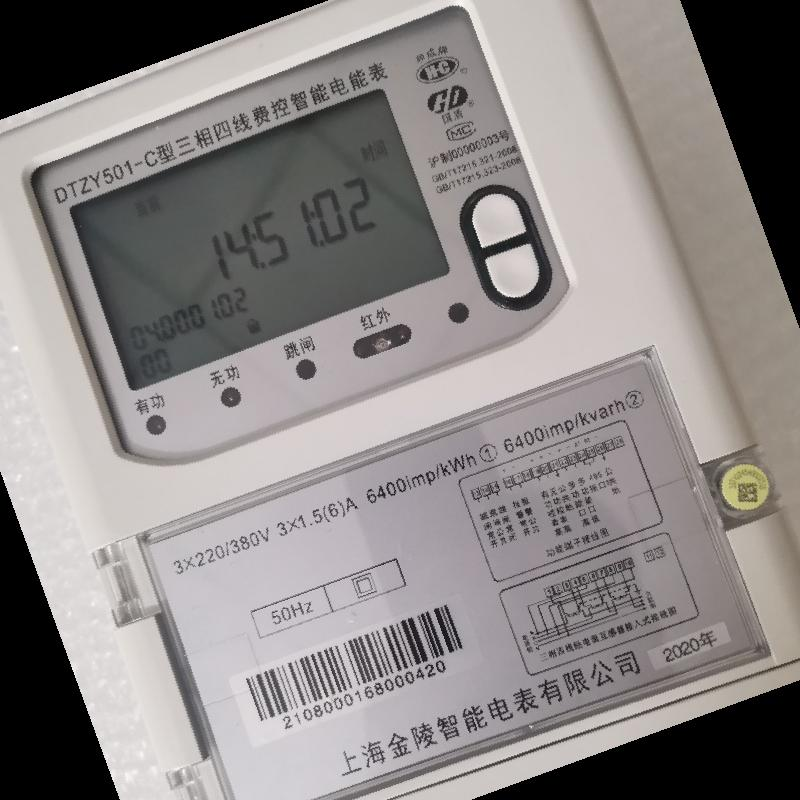digital: (1, 1, 798, 797)
